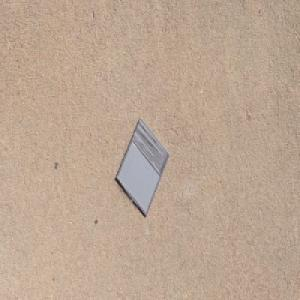PlasticPart: (115, 116, 170, 218)
